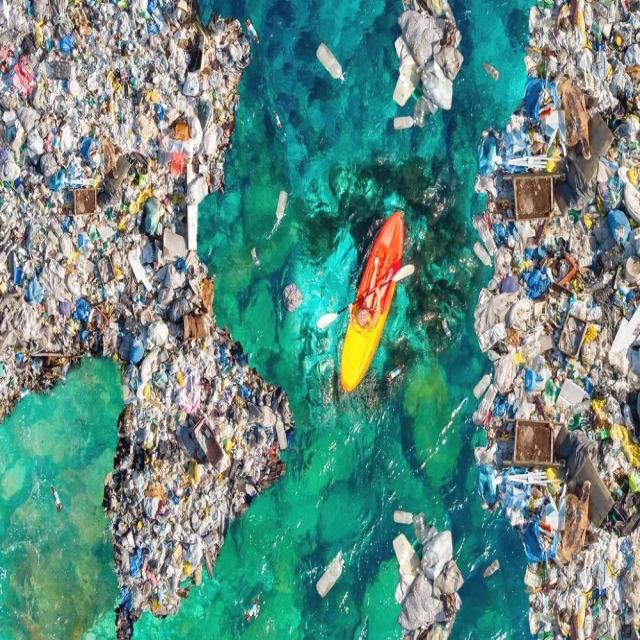plastic watse: (0, 0, 292, 639), (474, 3, 639, 637), (393, 0, 463, 125), (397, 526, 463, 639)
